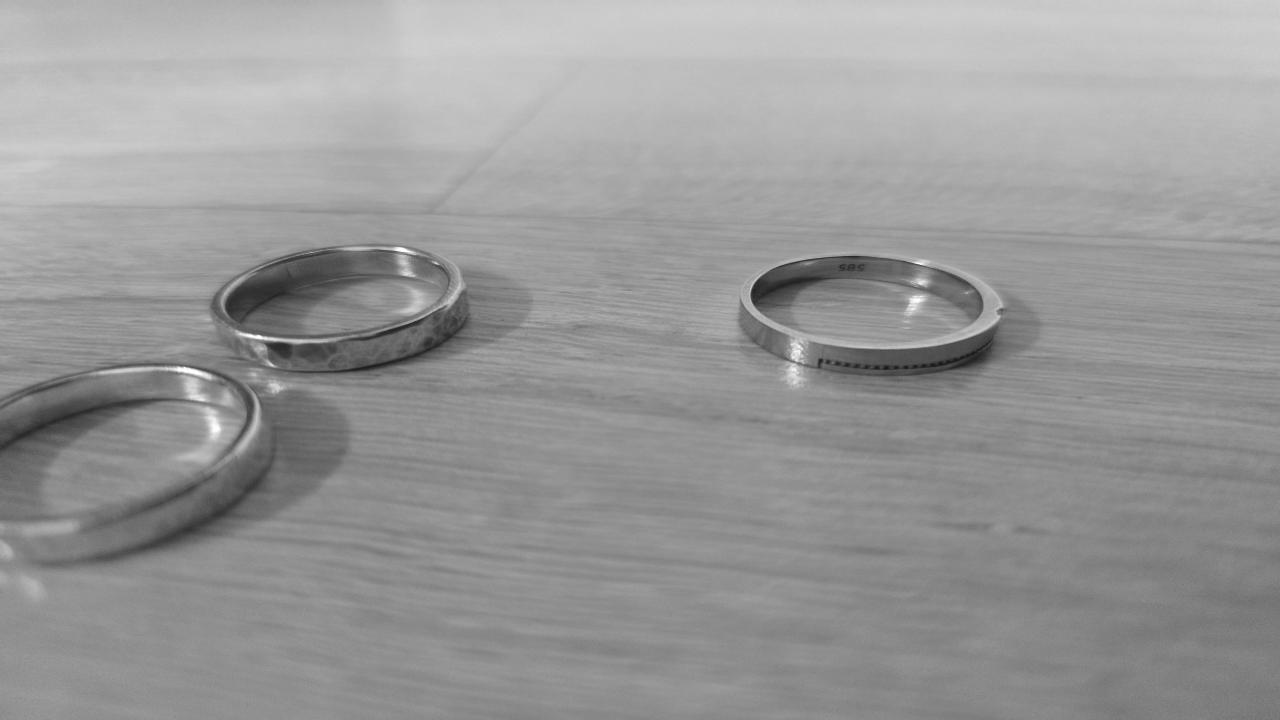ring: (0, 362, 274, 560), (212, 241, 475, 370), (736, 251, 1004, 373)
